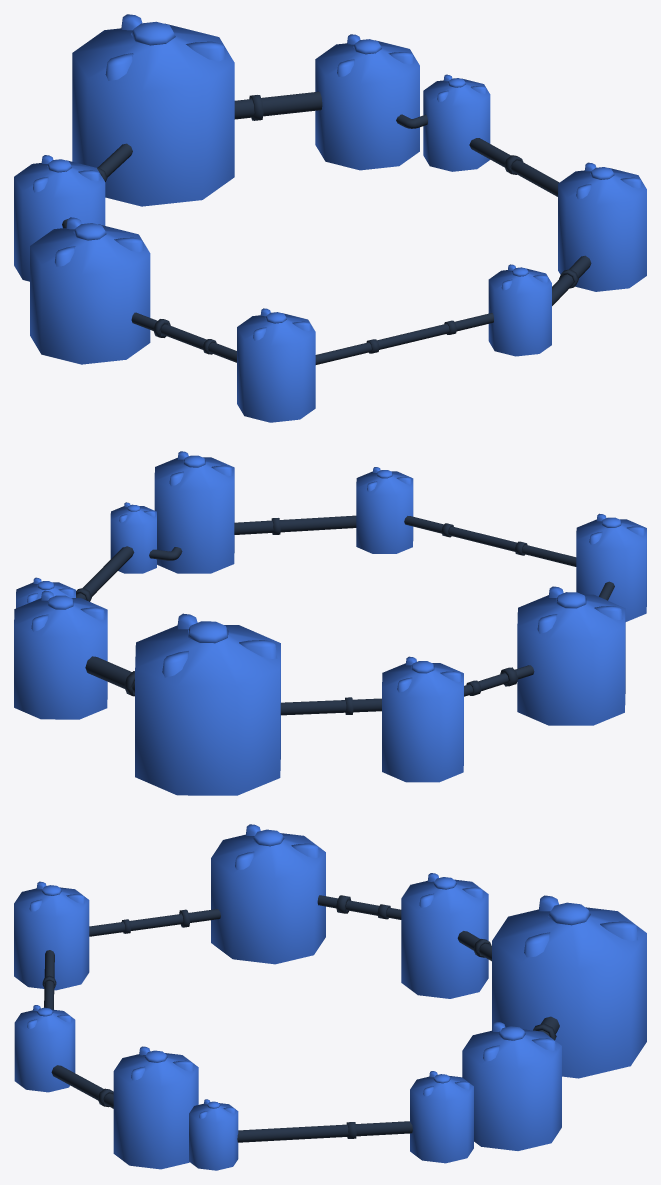
The model's file is [poo]_St3_Background.fbx.
3 renders of one model, top to bottom at view 1: azimuth 30°, elevation 25°; view 2: azimuth 150°, elevation 25°; view 3: azimuth 270°, elevation 25°, orthographic. The views are drawn at different scales.
Visible parts, largest first — view 1: Water_Tank_Base.001, Water_Tank_Base.003, Water_Tank_Base, Water_Tank_Base.006, Water_Tank_Base.004, Water_Tank_Base.002, Water_Tank_Base.008, Water_Tank_Base.005, pipe.009, pipe, Water_Tank_Wing.001, pipe.012 (+4 smaller); view 2: Water_Tank_Base.001, Water_Tank_Base.003, Water_Tank_Base, Water_Tank_Base.002, Water_Tank_Base.006, Water_Tank_Base.004, Water_Tank_Base.005, Water_Tank_Base.007, pipe.009, pipe.014, pipe.002, Water_Tank_Wing.001 (+7 smaller); view 3: Water_Tank_Base.001, Water_Tank_Base.003, Water_Tank_Base, Water_Tank_Base.002, Water_Tank_Base.006, Water_Tank_Base.004, Water_Tank_Base.008, Water_Tank_Base.005, Water_Tank_Base.007, pipe.012, pipe.006, Water_Tank_Wing.001 (+6 smaller).
Part boxes in pixels (<box>): Water_Tank_Base.001: <box>72,23,234,206</box>; Water_Tank_Base.003: <box>30,224,150,364</box>; Water_Tank_Base: <box>315,40,419,170</box>; Water_Tank_Base.006: <box>558,168,646,291</box>; Water_Tank_Base.004: <box>237,313,315,422</box>; Water_Tank_Base.002: <box>14,160,105,281</box>; Water_Tank_Base.008: <box>423,78,490,171</box>; Water_Tank_Base.005: <box>488,268,551,356</box>; pipe.009: <box>315,313,493,364</box>; pipe: <box>234,91,322,119</box>; Water_Tank_Wing.001: <box>105,14,225,80</box>; pipe.012: <box>469,138,559,196</box>; Water_Tank_Base.001: <box>135,625,280,795</box>; Water_Tank_Base.003: <box>517,594,625,725</box>; Water_Tank_Base: <box>14,598,107,719</box>; Water_Tank_Base.002: <box>382,663,463,782</box>; Water_Tank_Base.006: <box>154,457,234,573</box>; Water_Tank_Base.004: <box>576,519,646,621</box>; Water_Tank_Base.005: <box>356,471,413,553</box>; Water_Tank_Base.007: <box>110,506,156,573</box>; pipe.009: <box>404,516,576,566</box>; pipe.014: <box>234,515,356,534</box>; pipe.002: <box>280,698,381,715</box>; Water_Tank_Wing.001: <box>162,613,277,677</box>; Water_Tank_Base.001: <box>492,907,646,1078</box>; Water_Tank_Base.003: <box>211,833,325,964</box>; Water_Tank_Base: <box>462,1029,561,1150</box>; Water_Tank_Base.002: <box>401,879,488,998</box>; Water_Tank_Base.006: <box>113,1053,198,1169</box>; Water_Tank_Base.004: <box>14,887,89,990</box>; Water_Tank_Base.008: <box>410,1075,473,1163</box>; Water_Tank_Base.005: <box>14,1009,75,1092</box>; Water_Tank_Base.007: <box>189,1103,238,1170</box>; pipe.012: <box>237,1121,412,1142</box>; pipe.006: <box>89,909,220,936</box>; Water_Tank_Wing.001: <box>524,895,637,957</box>.
Bounding box in the file's own units: 12477 × 3256 × 12820.
